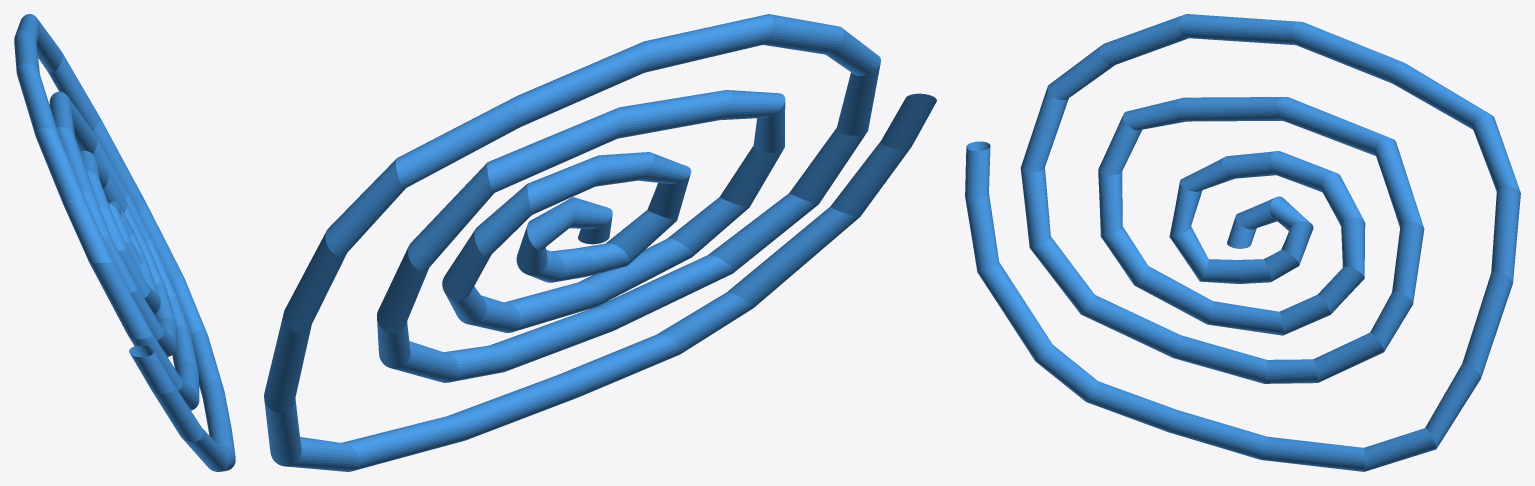
Rendered from Spiral_1.glb.
3 views of the same model, side by side, from view 1: azimuth 30°, elevation 25°; view 2: azimuth 150°, elevation 25°; view 3: azimuth 270°, elevation 25° (orthographic). The views are drawn at different scales.
Visible parts, largest first — view 1: Circle; view 2: Circle; view 3: Circle.
Boxes of the visible parts, left/top/right/bottom form: Circle: left=14, top=14, right=235, bottom=471; Circle: left=264, top=14, right=936, bottom=471; Circle: left=965, top=14, right=1520, bottom=471.
Bounding box in the file's own units: 26.63 × 32.53 × 45.85.
